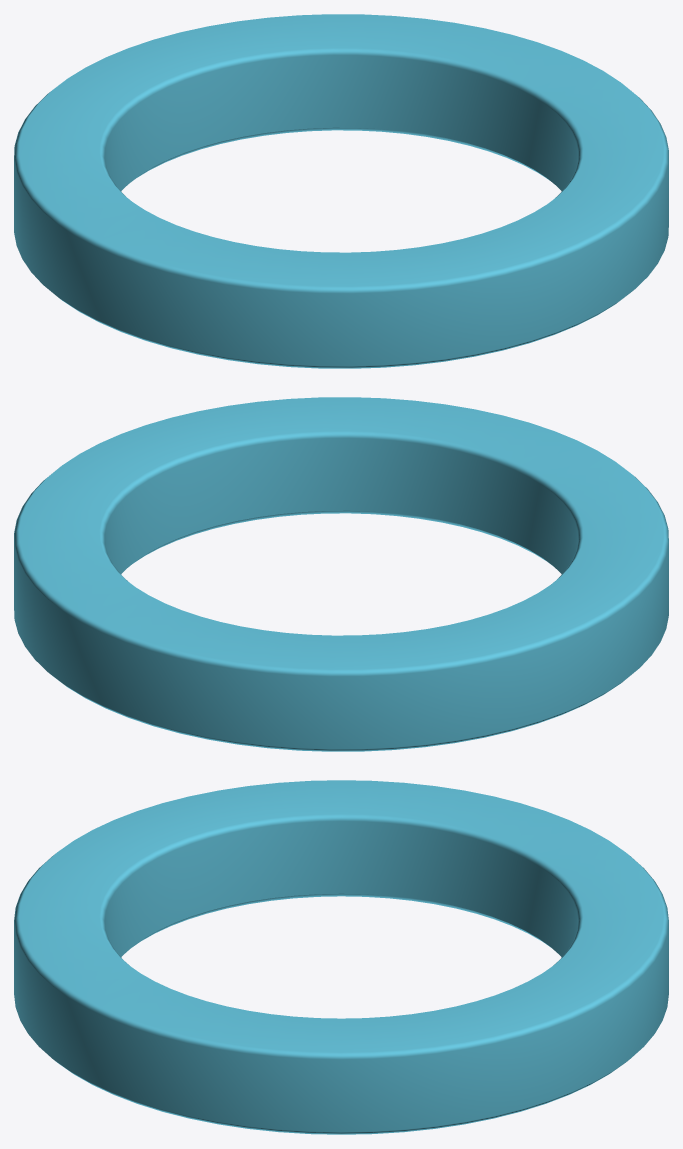
3 views of the same model, one above another, from view 1: azimuth 30°, elevation 25°; view 2: azimuth 150°, elevation 25°; view 3: azimuth 270°, elevation 25° (orthographic).
Parts seen in each view (by area): view 1: seal_body; view 2: seal_body; view 3: seal_body.
Boxes of the visible parts, x1,y1,x2,y2 form: seal_body: (14, 14, 668, 368); seal_body: (14, 397, 668, 751); seal_body: (14, 780, 668, 1134).
Size of the model in its own units: 0.0571 by 0.00793 by 0.0571.
